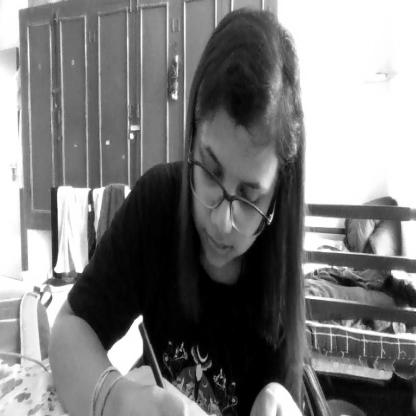Distracted: (191, 14, 300, 292)
